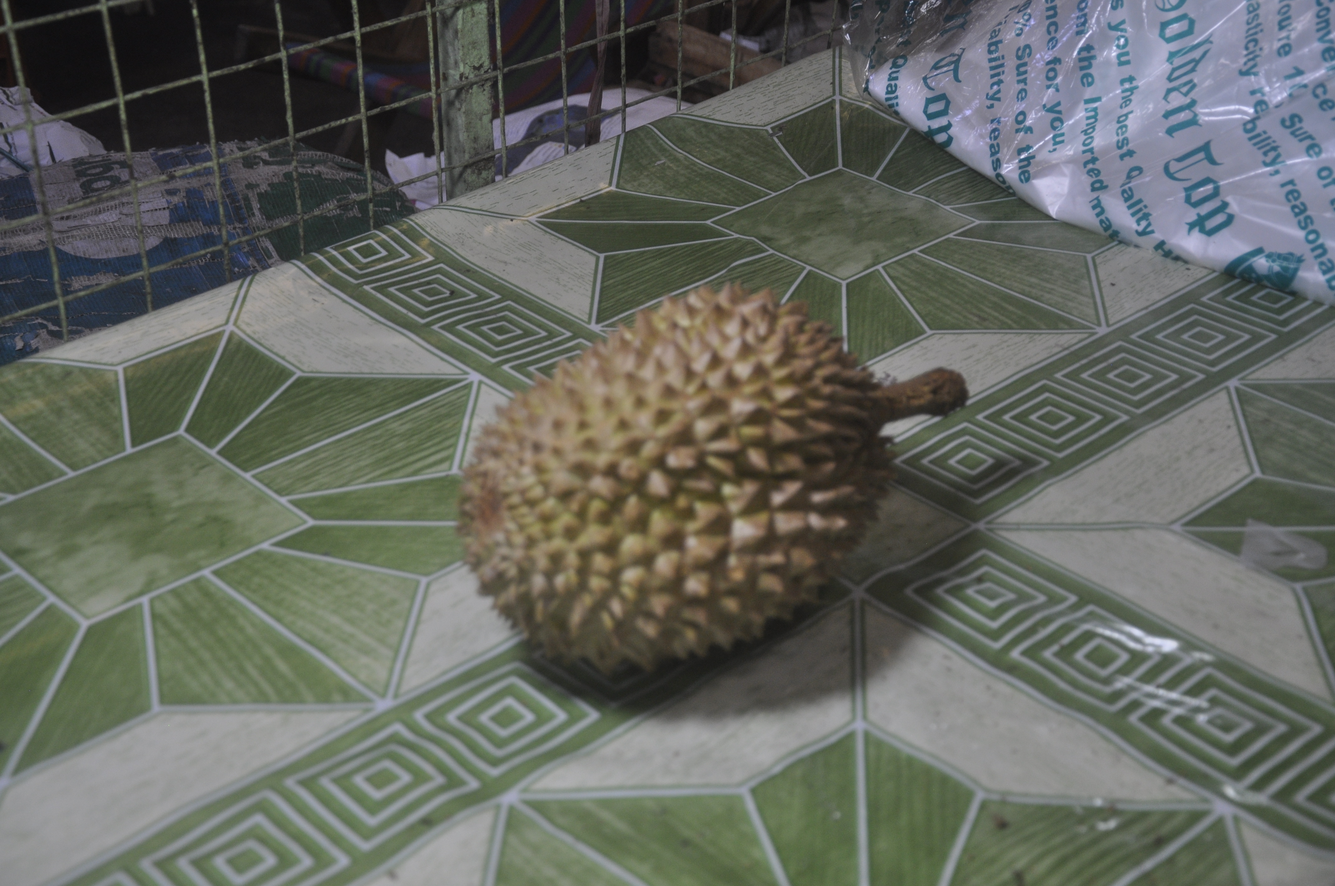mature: (460, 284, 967, 673)
